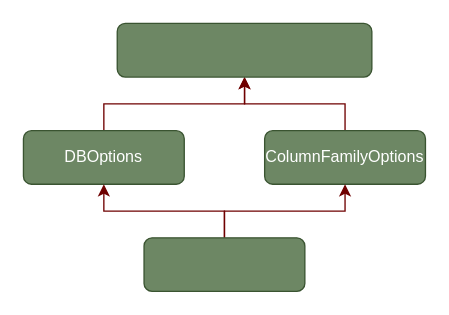
This 449x315 diagram has some shape labels left out. Here are the shapes that lost their labels. From the top down, the box of each, then its label:
(116, 22, 372, 77): AdvancedColumnFamilyOptions
(143, 237, 305, 291): Options
